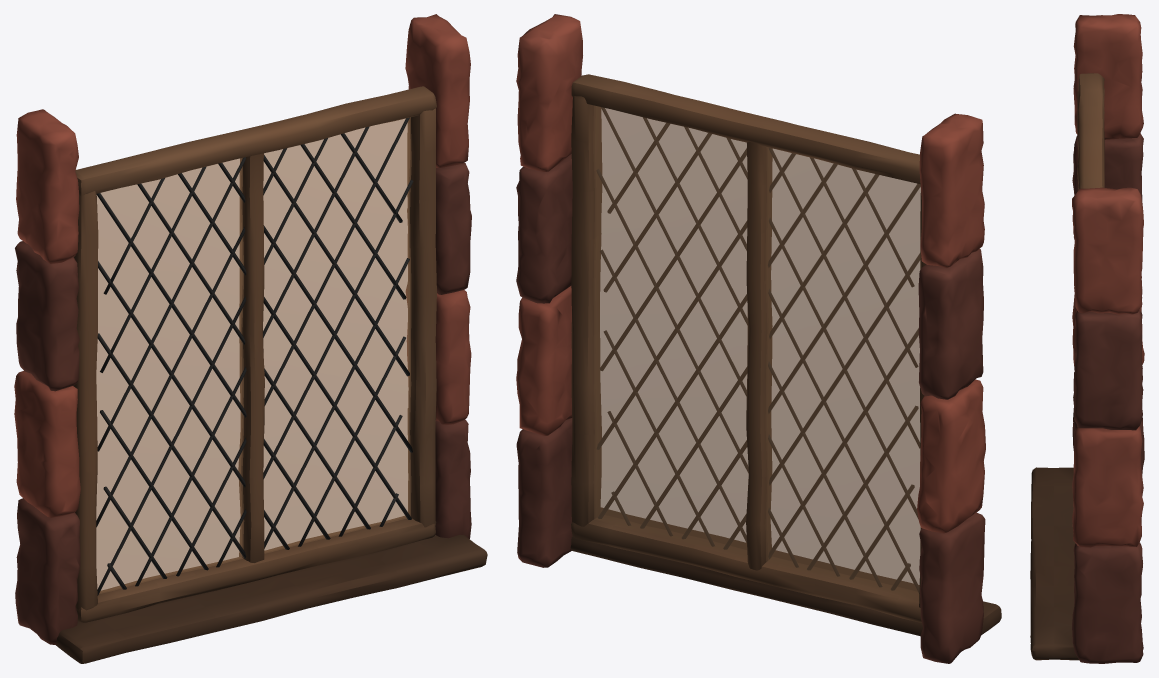
File: ember_window.glb
The picture shows the model from 3 angles, left to right: view 1: azimuth 30°, elevation 25°; view 2: azimuth 150°, elevation 25°; view 3: azimuth 270°, elevation 25°; orthographic projection. The views are drawn at different scales.
Visible parts, largest first — view 1: ember_window; view 2: ember_window; view 3: ember_window.
Part boxes in pixels (box(x1,y1,x2,y2)): ember_window: box(14, 14, 487, 663); ember_window: box(516, 14, 1001, 663); ember_window: box(1030, 14, 1144, 663).
Bounding box in the file's own units: 52.45 × 60.34 × 13.33.
